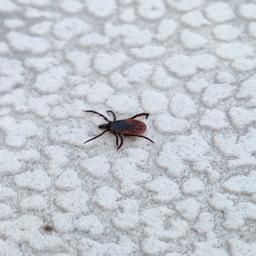Ixodes scapularis: (82, 110, 156, 150)
